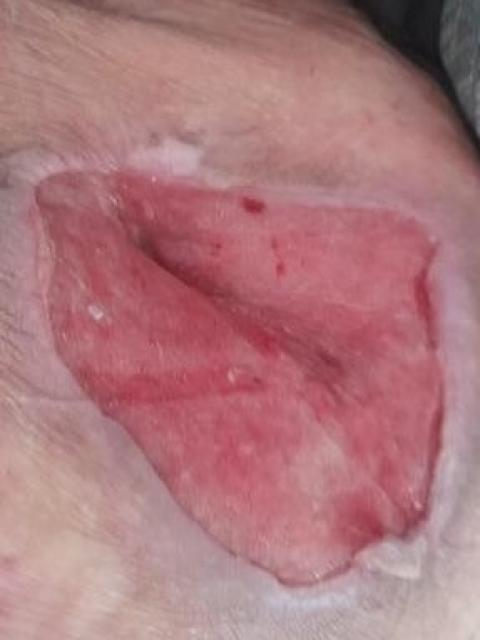wound: (35, 165, 452, 592)
